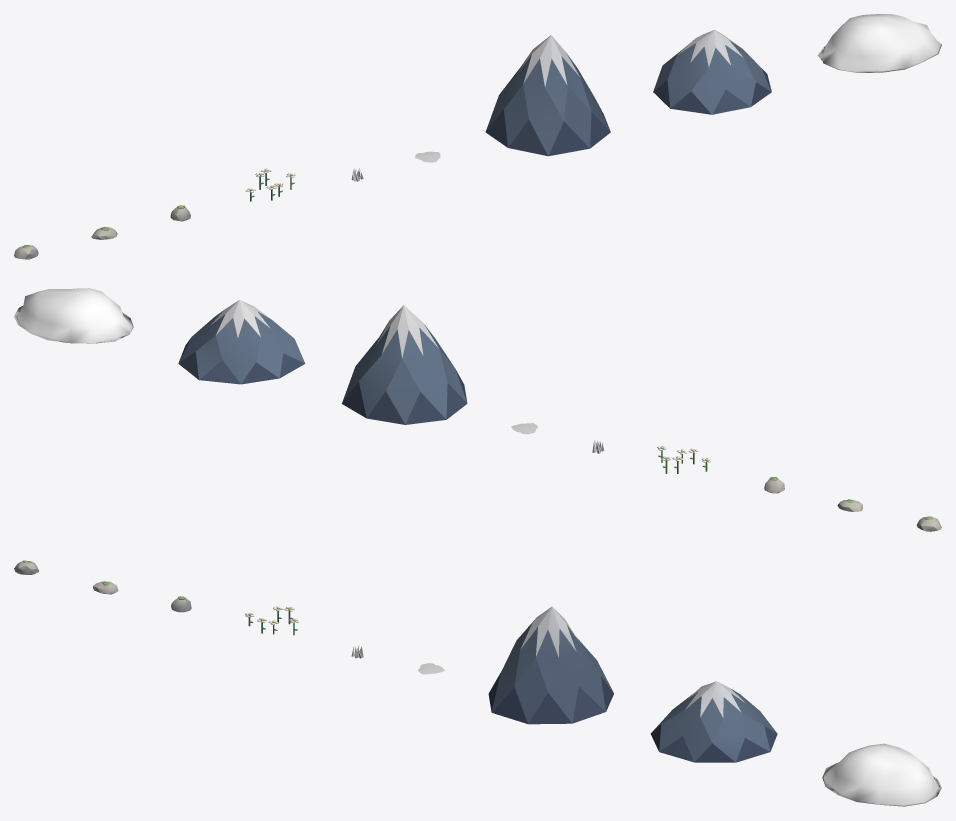
File: motel_kit_batch5.fbx
3 views of the same model, one above another, from view 1: azimuth 30°, elevation 25°; view 2: azimuth 150°, elevation 25°; view 3: azimuth 330°, elevation 25° (orthographic).
Parts seen in each view (by area): view 1: SM_Env_MountainTall, SM_Env_MountainWide, SM_Env_Hill; view 2: SM_Env_MountainTall, SM_Env_MountainWide, SM_Env_Hill; view 3: SM_Env_MountainTall, SM_Env_MountainWide, SM_Env_Hill.
Boxes of the visible parts, <box> form: SM_Env_MountainTall: <box>485,35,610,156</box>; SM_Env_MountainWide: <box>653,30,771,114</box>; SM_Env_Hill: <box>817,14,941,72</box>; SM_Env_MountainTall: <box>342,305,467,424</box>; SM_Env_MountainWide: <box>178,300,305,384</box>; SM_Env_Hill: <box>14,288,133,343</box>; SM_Env_MountainTall: <box>488,606,613,724</box>; SM_Env_MountainWide: <box>650,681,777,762</box>; SM_Env_Hill: <box>822,743,941,806</box>.
Bounding box in the file's own units: 82.92 × 8.55 × 10.02.
